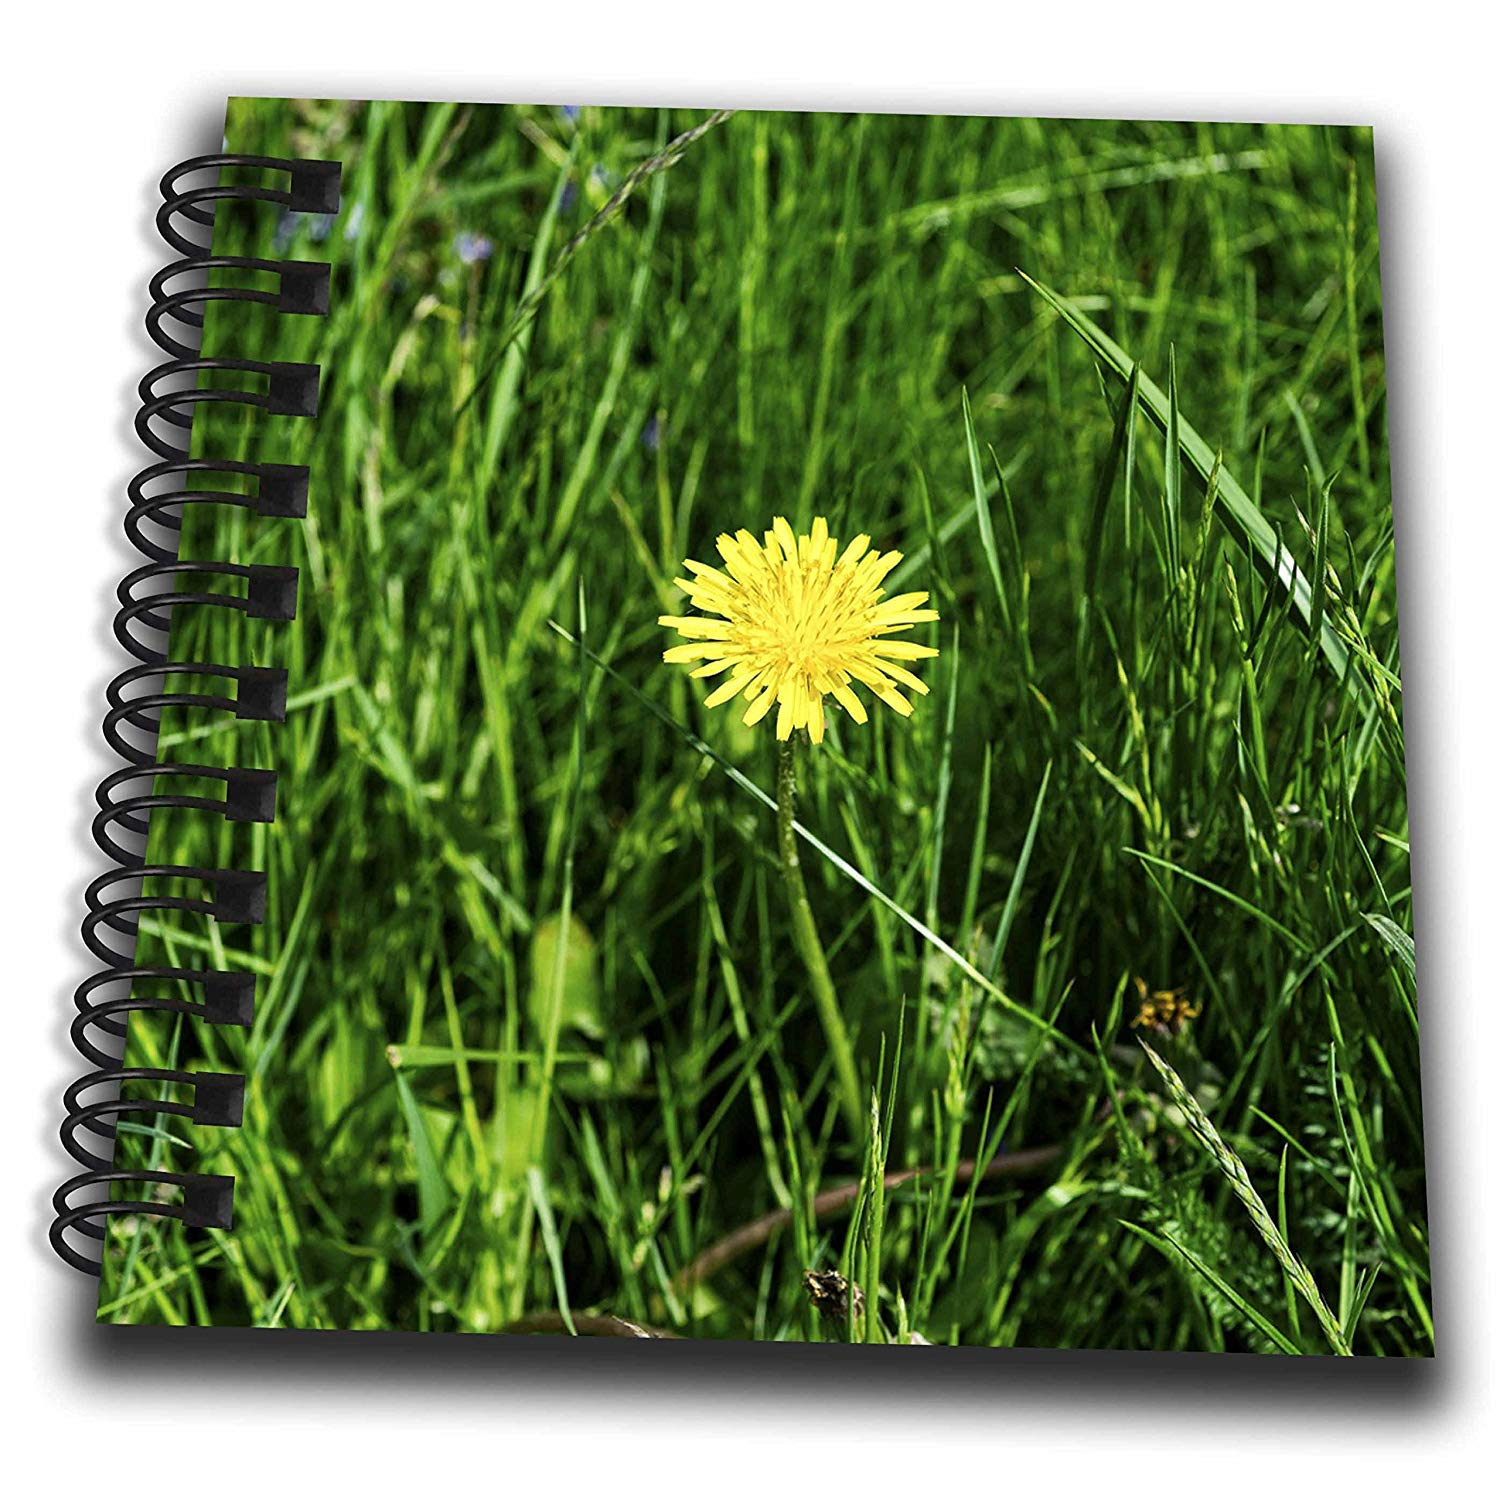dandelion: (637, 484, 968, 768)
